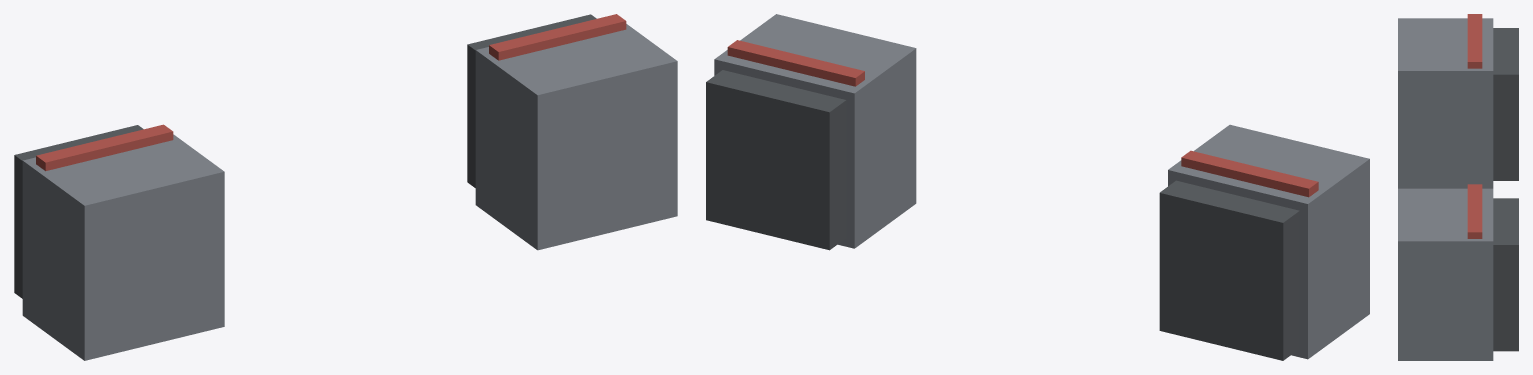
The model's file is shoulders-bruiser.glb.
The picture shows the model from 3 angles, left to right: view 1: azimuth 30°, elevation 25°; view 2: azimuth 150°, elevation 25°; view 3: azimuth 270°, elevation 25°; orthographic projection. The views are drawn at different scales.
Visible parts, largest first — view 1: pauldron_-1, pauldron_1, stripe_1, stripe_-1, top_-1, top_1; view 2: top_1, top_-1, pauldron_1, pauldron_-1, stripe_-1, stripe_1; view 3: pauldron_1, pauldron_-1, top_1, top_-1, stripe_-1, stripe_1.
Part boxes in pixels (box(x1,y1,x2,y2)): pauldron_-1: box(22, 134, 224, 360); pauldron_1: box(475, 24, 677, 250); stripe_1: box(489, 14, 626, 60); stripe_-1: box(36, 124, 173, 171); top_-1: box(14, 125, 143, 298); top_1: box(467, 14, 596, 187); top_1: box(706, 70, 846, 250); top_-1: box(1159, 180, 1299, 360); pauldron_1: box(714, 14, 916, 248); pauldron_-1: box(1168, 124, 1369, 359); stripe_-1: box(1181, 150, 1318, 197); stripe_1: box(727, 40, 864, 86); pauldron_1: box(1398, 188, 1493, 360); pauldron_-1: box(1398, 18, 1493, 188); top_1: box(1493, 198, 1518, 351); top_-1: box(1493, 28, 1518, 180); stripe_-1: box(1467, 14, 1482, 68); stripe_1: box(1467, 184, 1482, 238).
Bounding box in the file's own units: 1.44 × 0.38 × 0.33.
